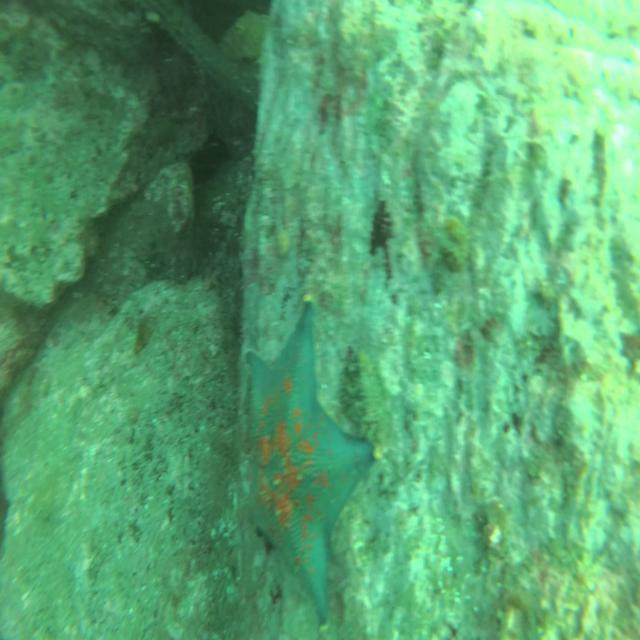starfish: (240, 292, 384, 631)
